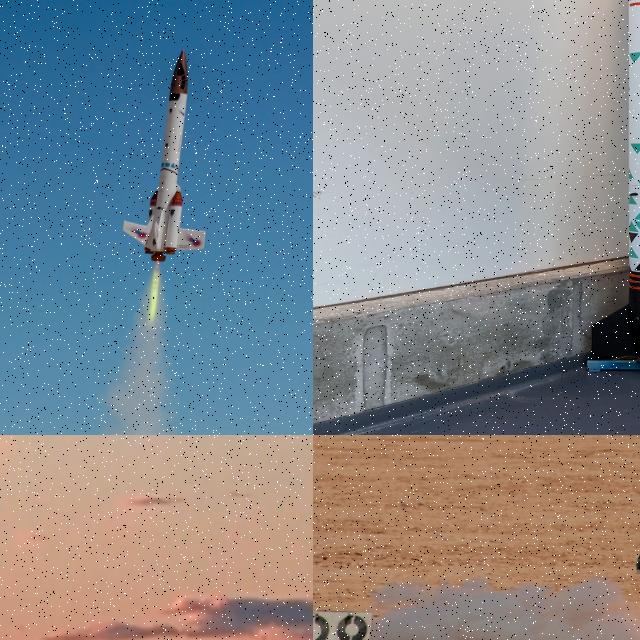Rocket: (122, 48, 209, 259)
